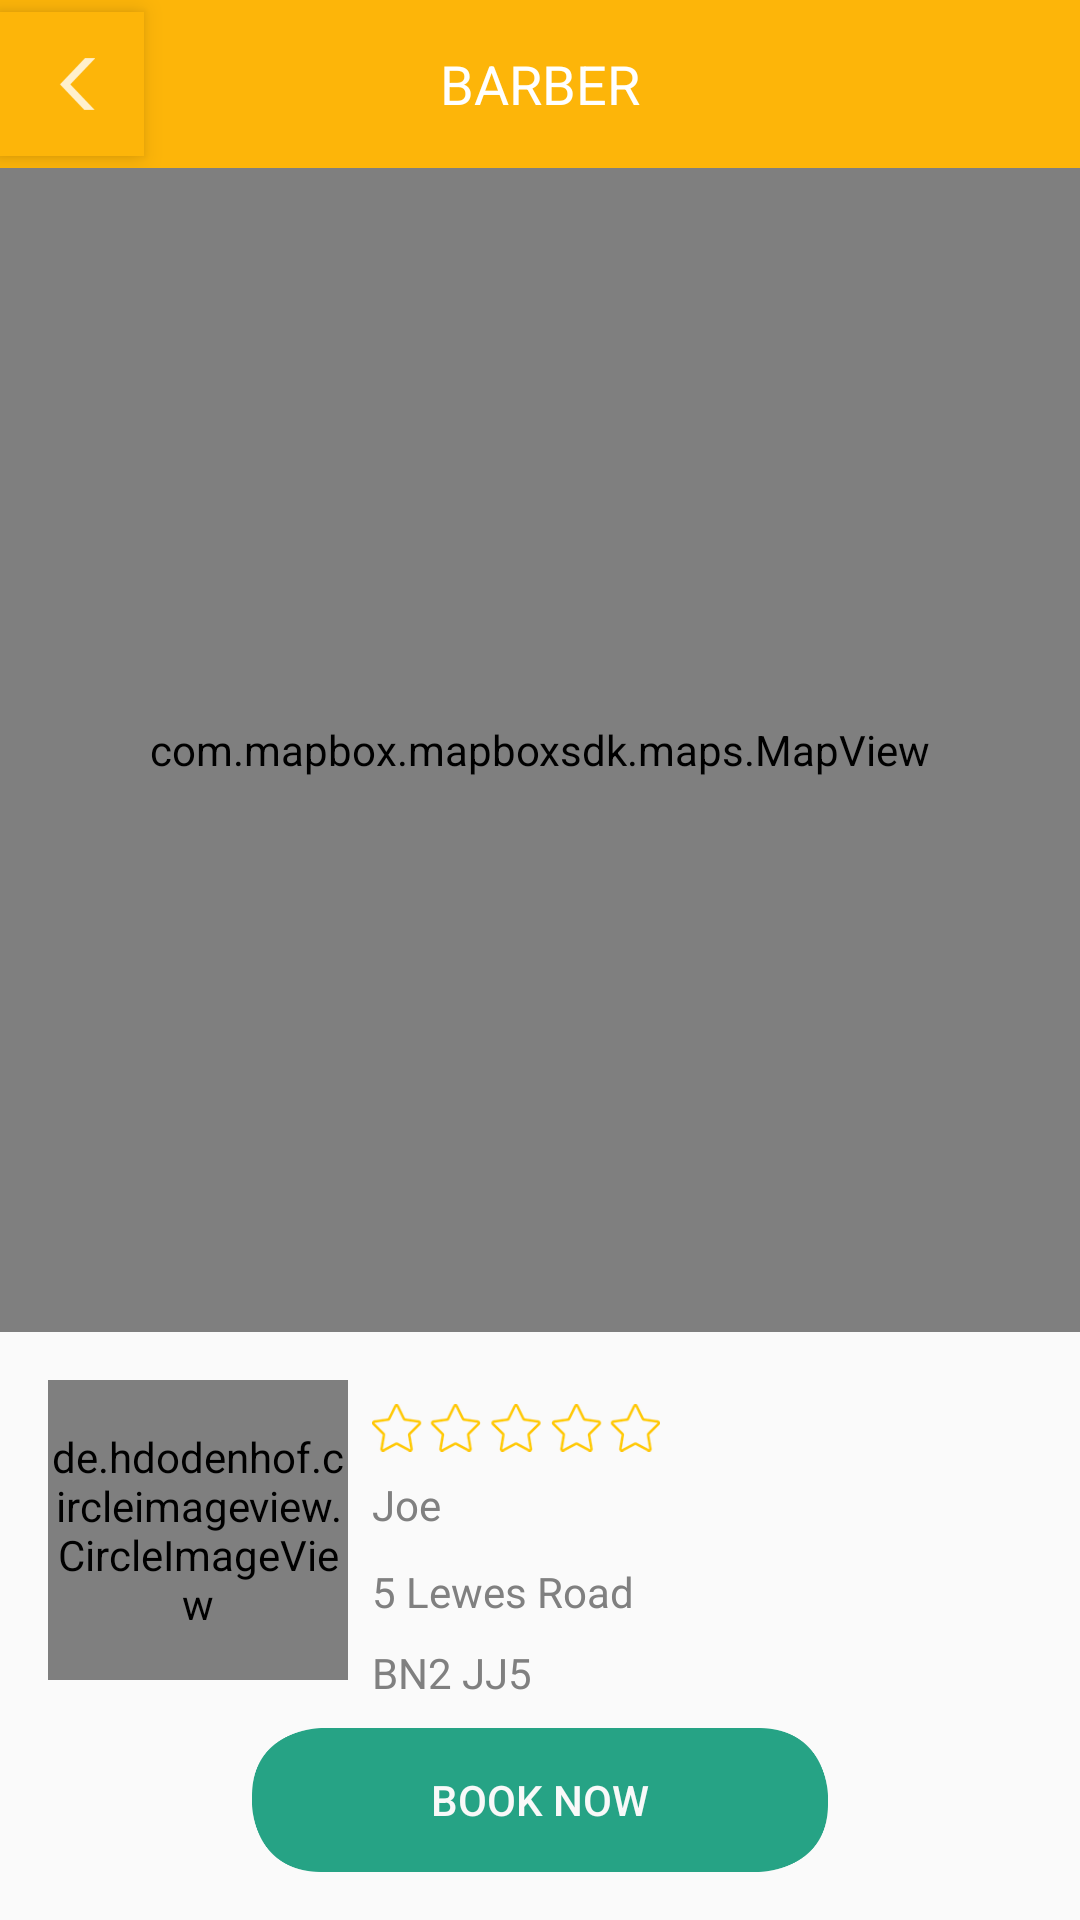

Point at icon controls on the screen. Image size 1080 × 1920, points as (x,y).
back: (72,84)
stars: (516,1428)
